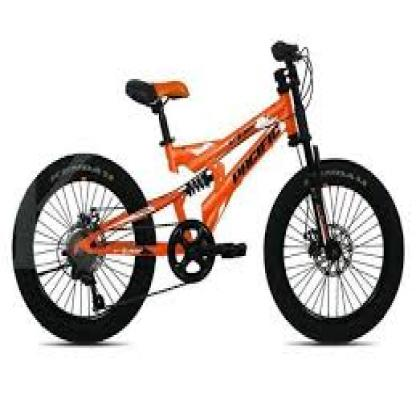Bike: (9, 36, 407, 355)
